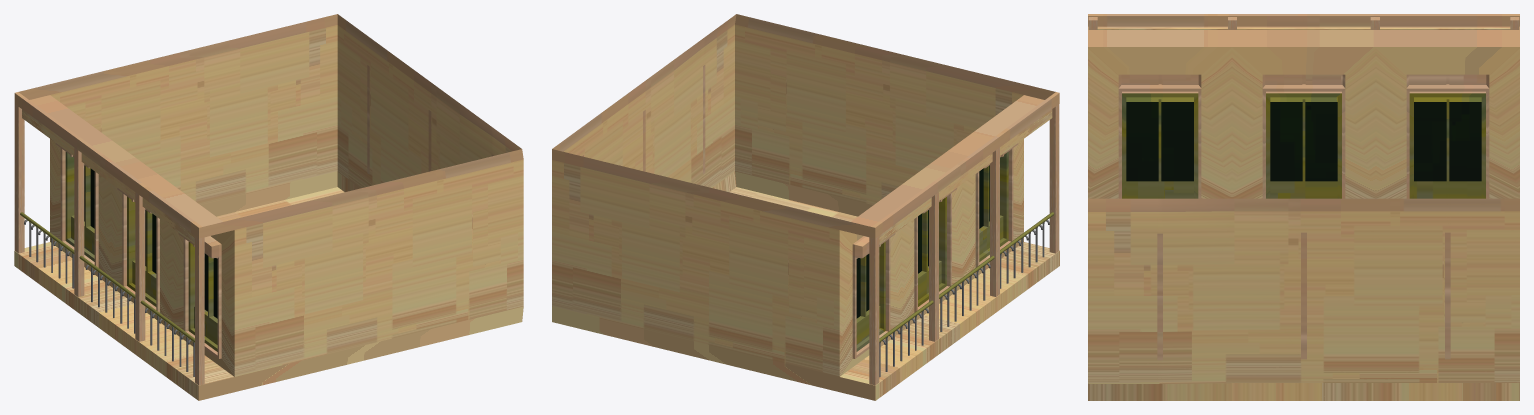
Rendered from Building_03.fbx.
The picture shows the model from 3 angles, left to right: view 1: azimuth 30°, elevation 25°; view 2: azimuth 150°, elevation 25°; view 3: azimuth 270°, elevation 25°; orthographic projection. The views are drawn at different scales.
Parts seen in each view (by area): view 1: Building_03; view 2: Building_03; view 3: Building_03.
Part boxes in pixels (x1,y1,x2,y2): Building_03: (14,14,523,400); Building_03: (552,14,1059,400); Building_03: (1088,14,1519,400).
Size of the model in its own units: 1018 by 518 by 1000.
5 materials, 5 textured.
